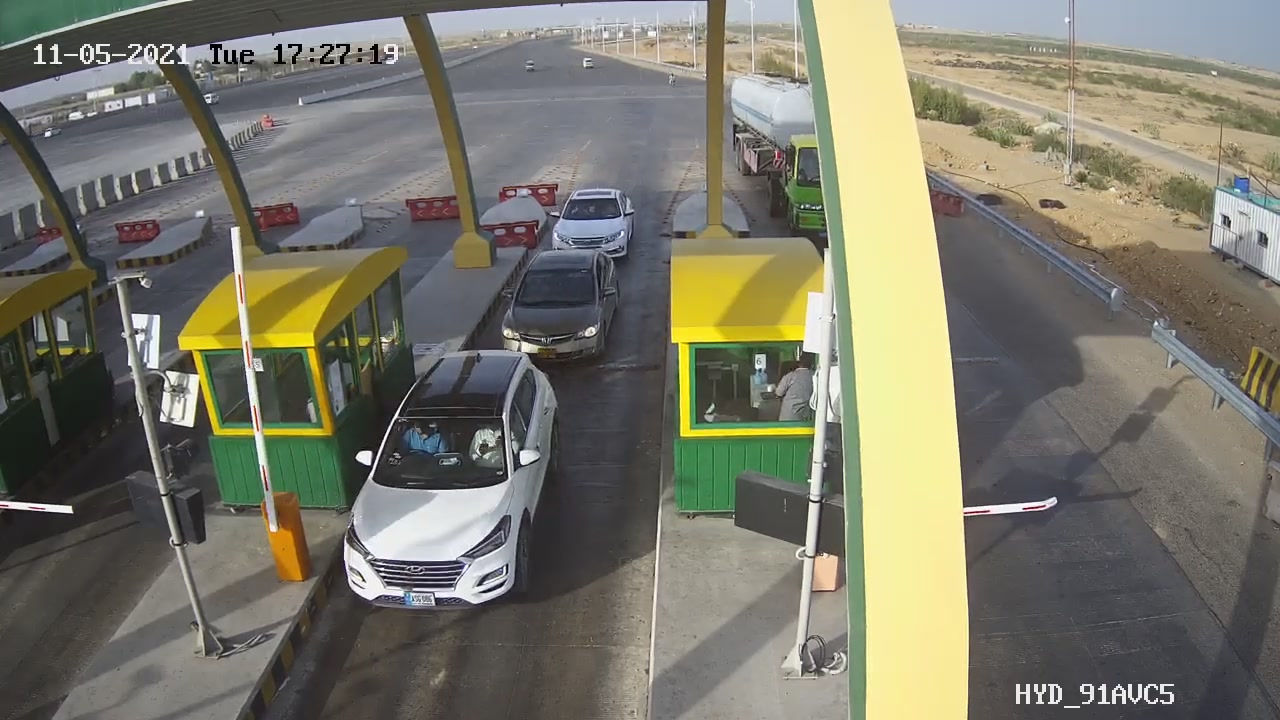F1: (324, 335, 583, 629), (490, 236, 634, 381)
